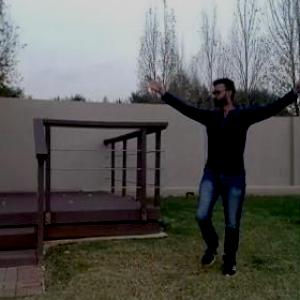takeoff: (140, 66, 300, 274)
